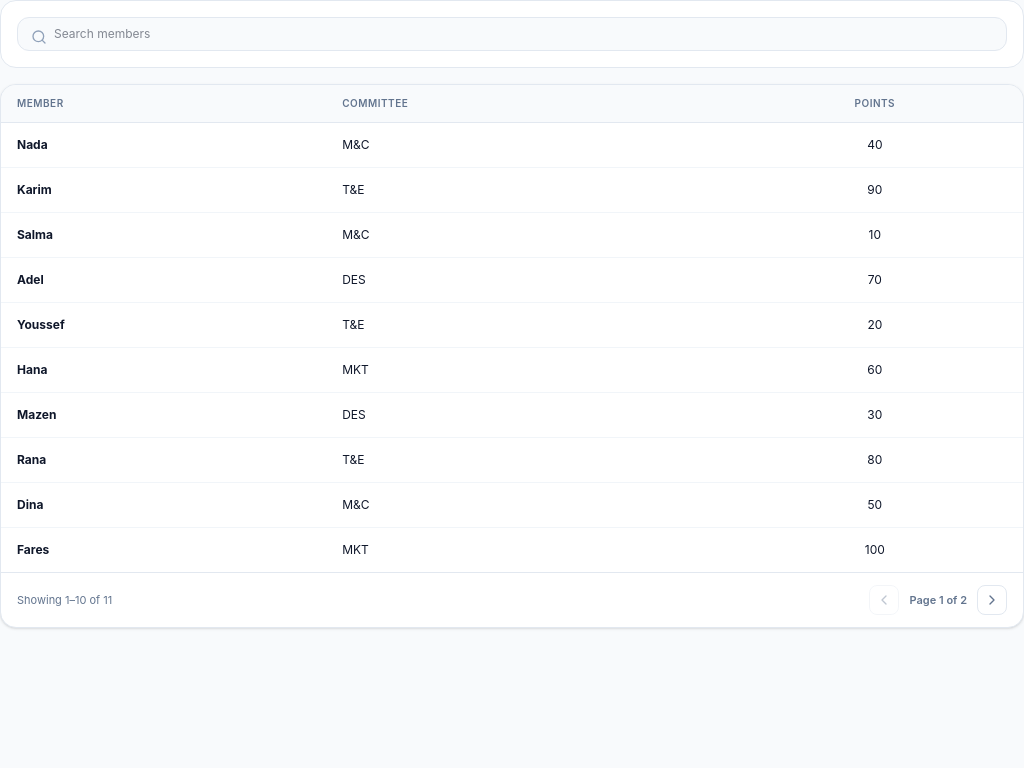
Test: the table on a desktop viewport › says so when the search matches nothing, without pretending the table is empty
Type "nobody here" into the search field labelled "Search members" at {"x": 512, "y": 34}, box 17,17 -> 1007,51
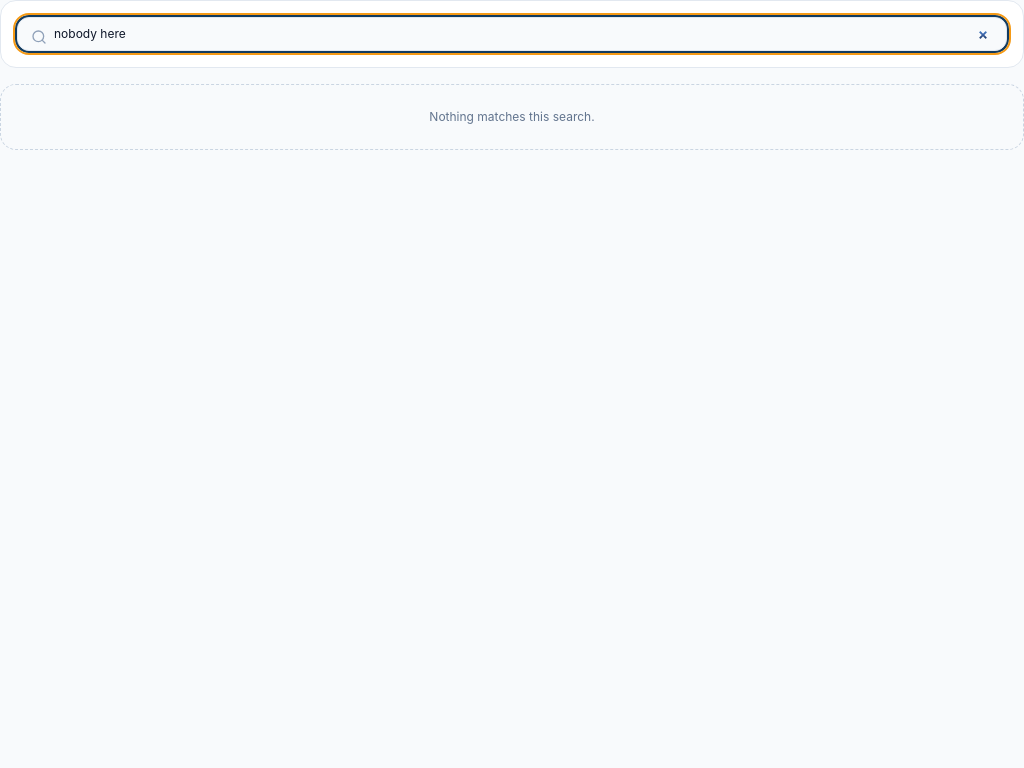
expect the text "Nothing matches this search." is shown: met, box 0,84 -> 1023,150
